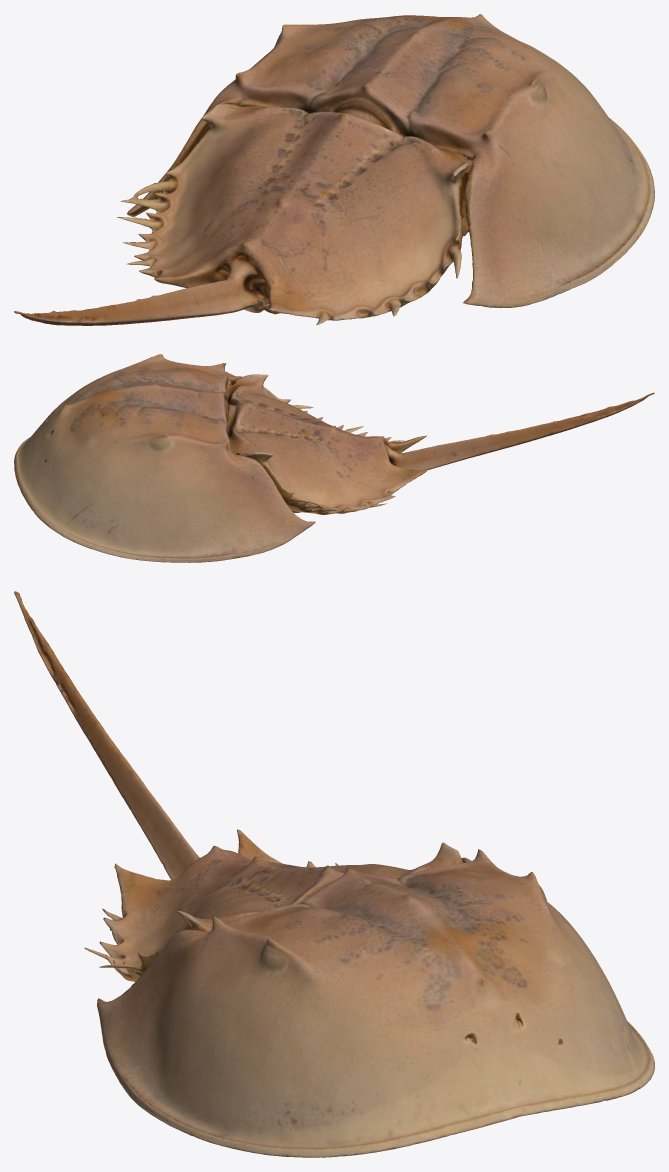
3 views of the same model, one above another, from view 1: azimuth 30°, elevation 25°; view 2: azimuth 150°, elevation 25°; view 3: azimuth 270°, elevation 25° (orthographic). The views are drawn at different scales.
Visible parts, largest first — view 1: orientacao; view 2: orientacao; view 3: orientacao.
Boxes of the visible parts, x1,y1,x2,y2 form: orientacao: [14, 14, 654, 325]; orientacao: [14, 354, 654, 562]; orientacao: [14, 591, 654, 1157].
Size of the model in its own units: 7891 by 1754 by 5178.
Materials: 1 (1 with a texture image).
